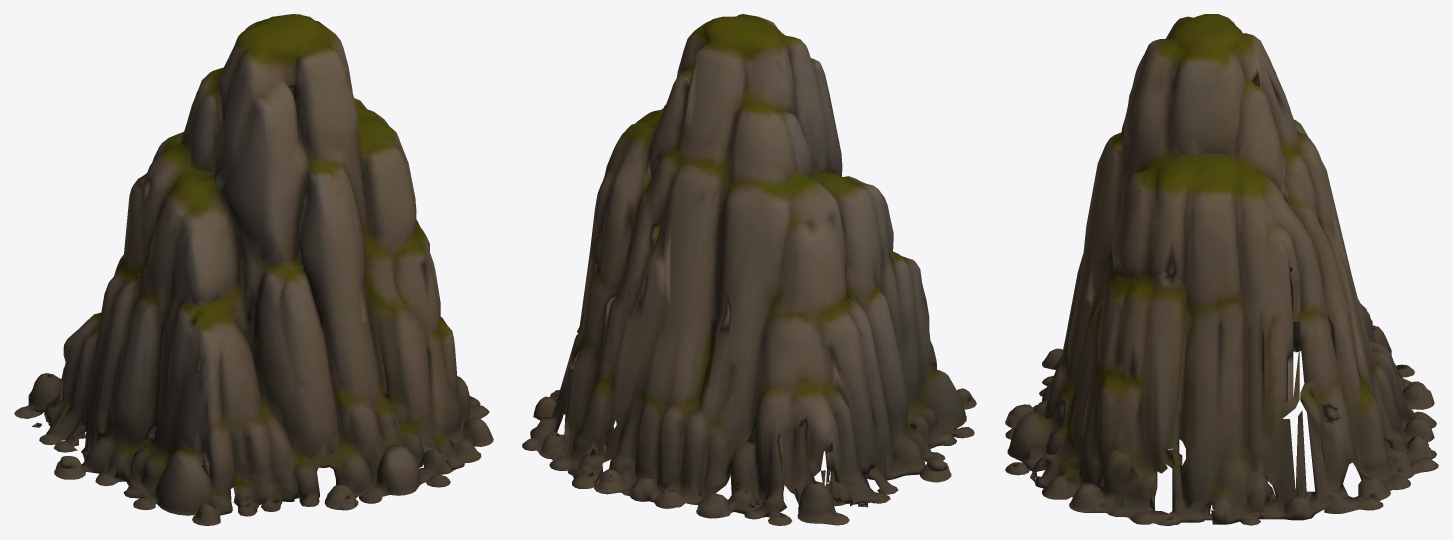
Rendered from rocky_outcrop_90599d8a_v4.glb.
The picture shows the model from 3 angles, left to right: view 1: azimuth 30°, elevation 25°; view 2: azimuth 150°, elevation 25°; view 3: azimuth 270°, elevation 25°; orthographic projection. The views are drawn at different scales.
Visible parts, largest first — view 1: material; view 2: material; view 3: material.
Part boxes in pixels (<box>): material: <box>14,14,493,525</box>; material: <box>522,14,976,525</box>; material: <box>1005,14,1438,525</box>.
Size of the model in its own units: 1.9 by 1.87 by 1.78.
Materials: 1 (1 with a texture image).
